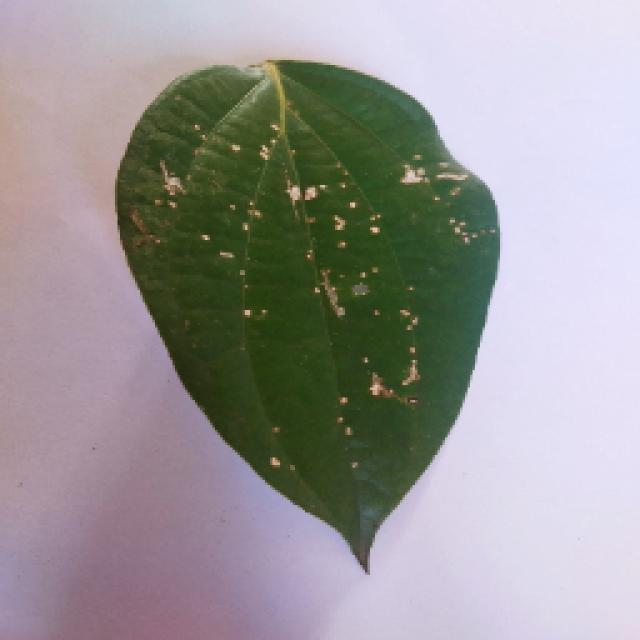pollu-disease: (112, 55, 500, 570)
